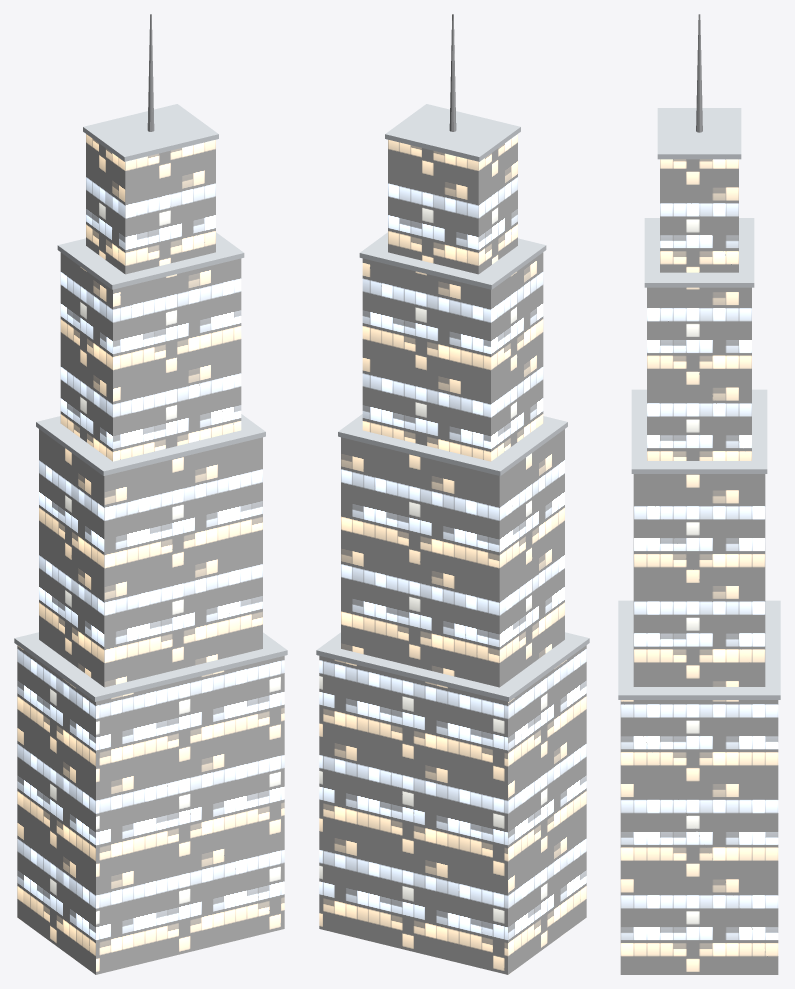
Rendered from SM_KAFD_Stepped.fbx.
The picture shows the model from 3 angles, left to right: view 1: azimuth 30°, elevation 25°; view 2: azimuth 150°, elevation 25°; view 3: azimuth 270°, elevation 25°; orthographic projection.
Parts seen in each view (by area): view 1: SM_KAFD_Stepped; view 2: SM_KAFD_Stepped; view 3: SM_KAFD_Stepped.
Part boxes in pixels (left/top/right/bottom): SM_KAFD_Stepped: left=14, top=14, right=287, bottom=974; SM_KAFD_Stepped: left=316, top=14, right=589, bottom=974; SM_KAFD_Stepped: left=618, top=14, right=780, bottom=974.
Bounding box in the file's own units: 5100 × 23000 × 3700.
